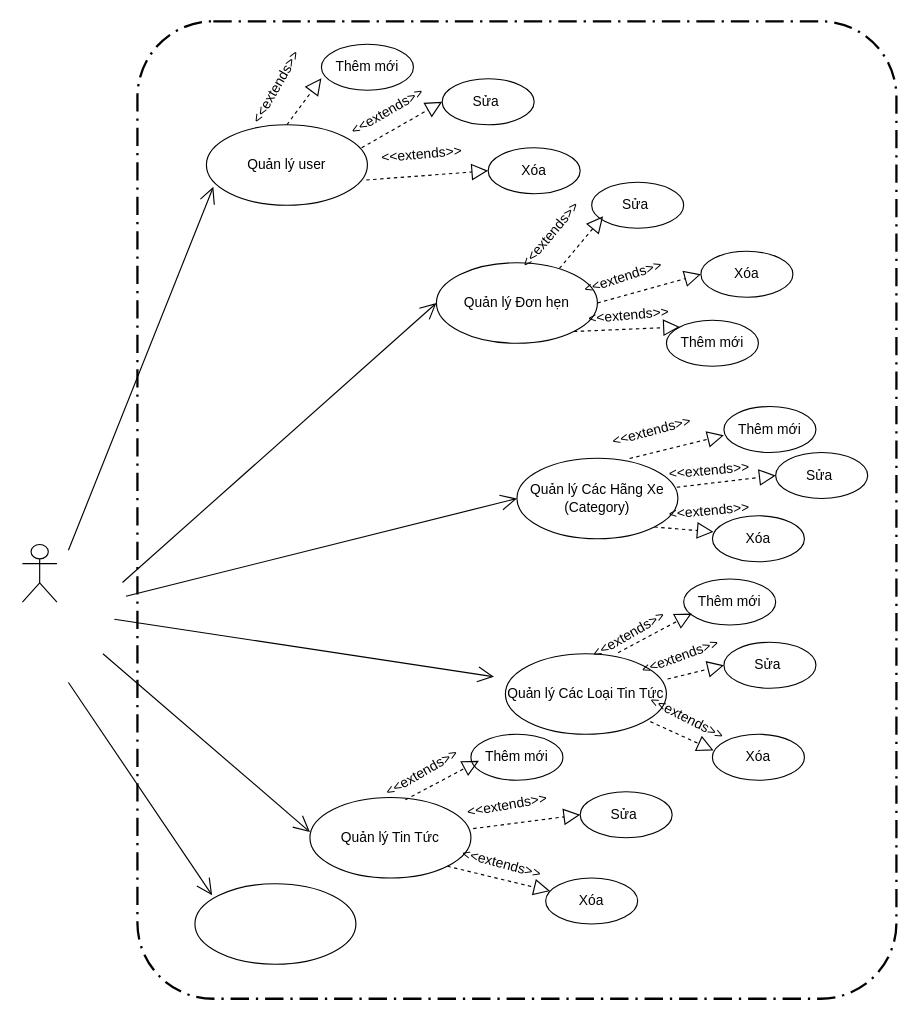
Some shapes in this 918 by 1019 pixel diagram are drawn without their labels. Each missing label, with the box of its shape:
Admin: (21, 543, 57, 602)
Quản lý Danh sách Hỏi đáp: (194, 883, 356, 964)
